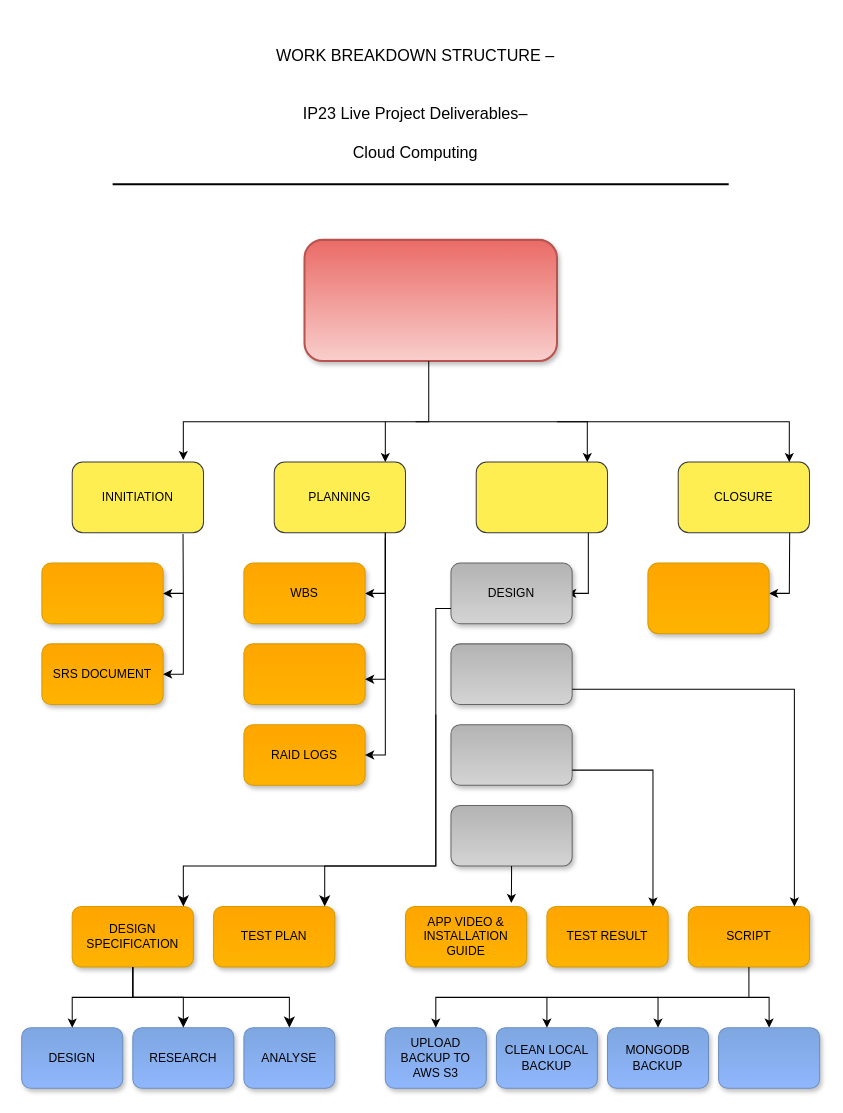
Some shapes in this 843 by 1113 pixel diagram are drawn without their labels. Each missing label, with the centre of its shape:
"CONNECTION STRING" goes at pixel 770 1059.
"DEPLOY" goes at pixel 512 836.
"DEVELOP" goes at pixel 512 675.
"EXECUTION AND MONITORING" goes at pixel 541 497.
"LESSON LEARNT & PROJECT REPORT" goes at pixel 709 599.
"MONGODB TITLE" goes at pixel 431 301.
"PROJECT CHARTER" goes at pixel 103 594.
"PROJECT SCHEDULE" goes at pixel 305 675.
"TEST" goes at pixel 512 756.
